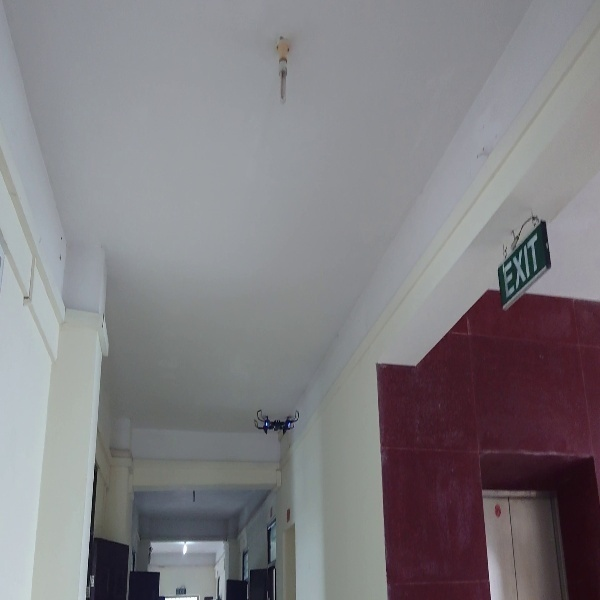drone: (247, 404, 302, 440)
